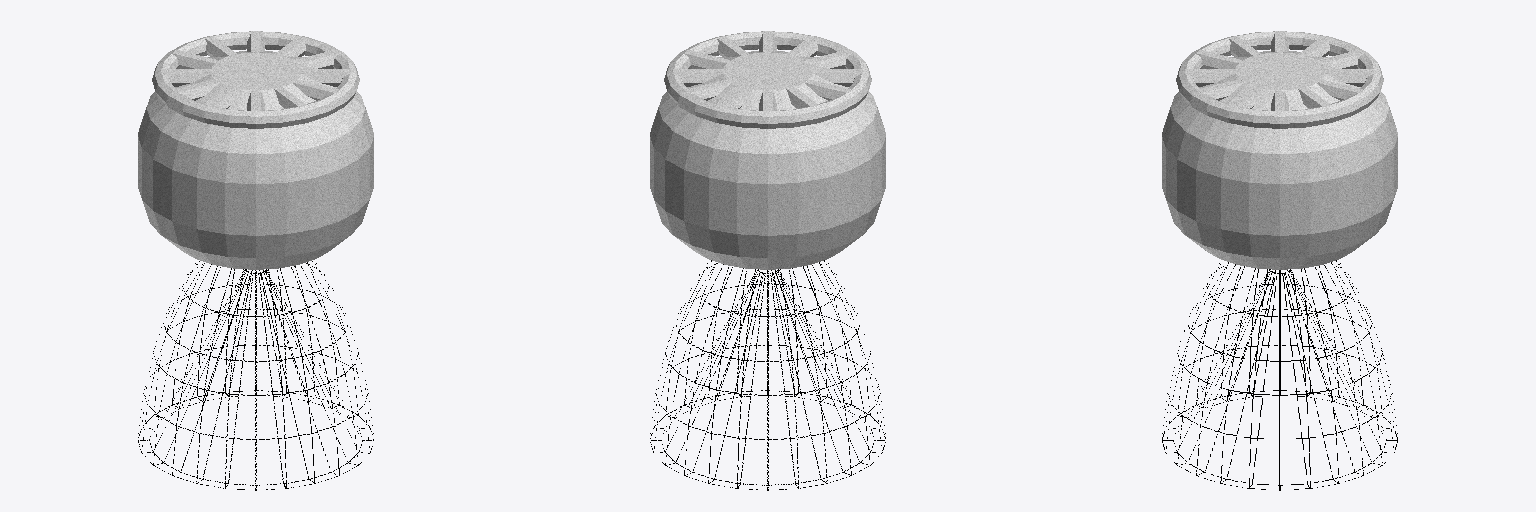
The picture shows the model from 3 angles: view 1: azimuth 30°, elevation 25°; view 2: azimuth 150°, elevation 25°; view 3: azimuth 270°, elevation 25°; orthographic projection.
Visible parts, largest first — view 1: S0VerniorBase, S0VernierTorus, S0VerniorNozzle; view 2: S0VerniorBase, S0VernierTorus, S0VerniorNozzle; view 3: S0VerniorBase, S0VernierTorus, S0VerniorNozzle.
Part boxes in pixels (left/top/right/bottom): S0VerniorBase: left=138, top=51, right=373, bottom=269; S0VernierTorus: left=152, top=31, right=359, bottom=128; S0VerniorNozzle: left=138, top=261, right=373, bottom=490; S0VerniorBase: left=650, top=51, right=885, bottom=269; S0VernierTorus: left=664, top=31, right=871, bottom=128; S0VerniorNozzle: left=650, top=260, right=885, bottom=490; S0VerniorBase: left=1162, top=51, right=1397, bottom=269; S0VernierTorus: left=1176, top=31, right=1383, bottom=128; S0VerniorNozzle: left=1162, top=260, right=1397, bottom=490.
Size of the model in its own units: 0.125 by 0.215 by 0.125.
3 materials, 2 textured.